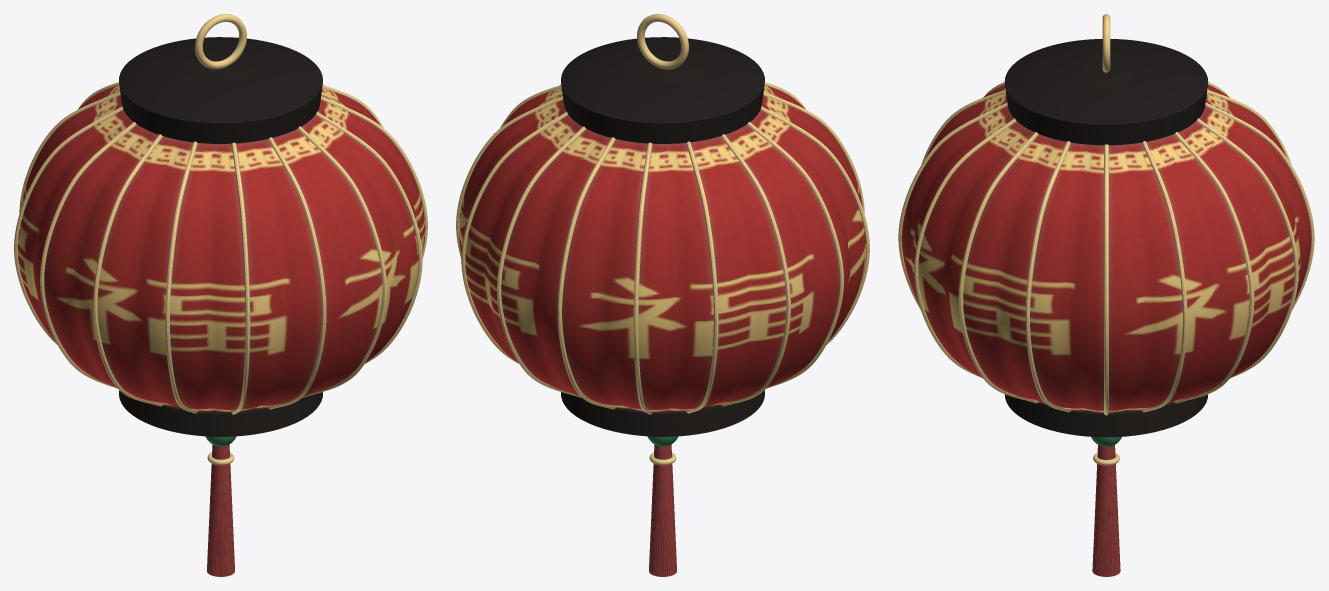
The model's file is silk_lantern.glb.
3 renders of one model, left to right at view 1: azimuth 30°, elevation 25°; view 2: azimuth 150°, elevation 25°; view 3: azimuth 270°, elevation 25°, orthographic.
Parts seen in each view (by area): view 1: silk_lantern; view 2: silk_lantern; view 3: silk_lantern.
Part boxes in pixels (x1,y1,x2,y2): silk_lantern: [14, 14, 427, 576]; silk_lantern: [456, 14, 869, 576]; silk_lantern: [898, 14, 1314, 576].
Size of the model in its own units: 0.2944 by 0.4328 by 0.2944.
Materials: 1 (1 with a texture image).
